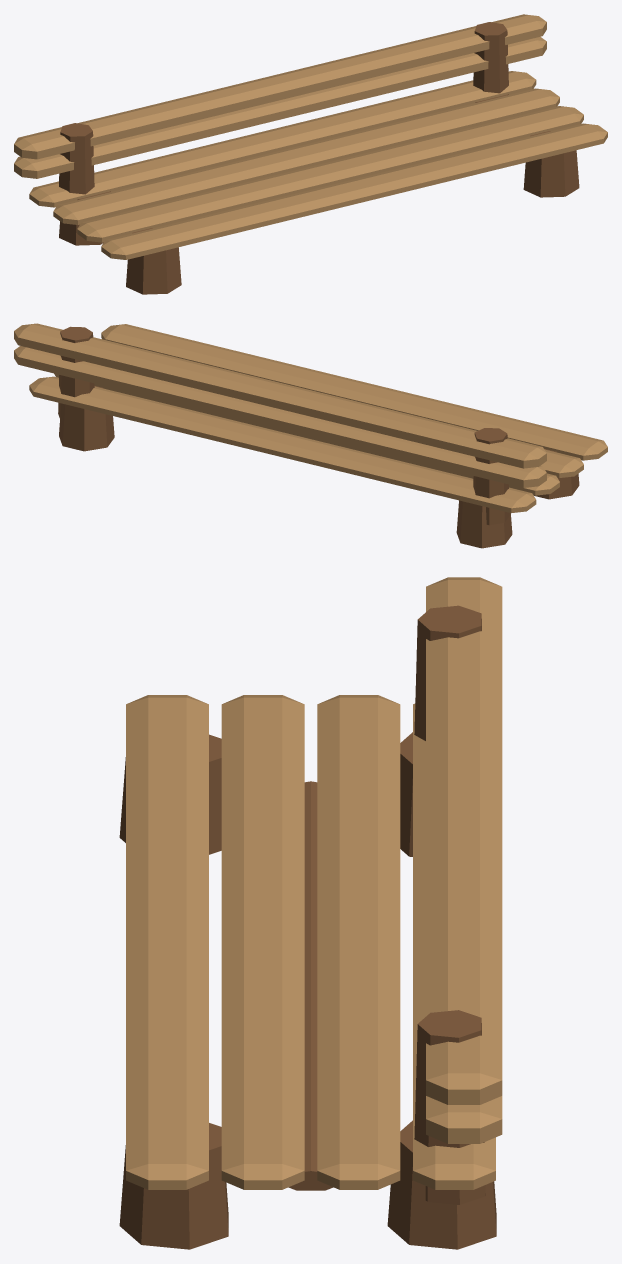
The model's file is CC_RestBench.fbx.
3 renders of one model, top to bottom at view 1: azimuth 30°, elevation 25°; view 2: azimuth 150°, elevation 25°; view 3: azimuth 270°, elevation 25°, orthographic. The views are drawn at different scales.
Visible parts, largest first — view 1: Back slat.003, Plank.036, Plank.038, Plank.037, Plank.039, Back slat.002, Leg.048, Leg.050, Back post.001, Back post, Leg.049; view 2: Back slat.003, Plank.039, Plank.036, Back slat.002, Leg.051, Plank.038, Leg.049, Back post, Back post.001, Plank.037, Leg.048; view 3: Plank.037, Plank.038, Plank.036, Back slat.003, Plank.039, Leg.050, Leg.051, Brace.008, Back post.001, Back slat.002, Back post, Leg.048 (+1 smaller).
Boxes of the visible parts, x1,y1,x2,y2 form: Back slat.003: (14, 14, 546, 159); Plank.036: (101, 123, 607, 259); Plank.038: (53, 88, 559, 224); Plank.037: (77, 106, 583, 242); Plank.039: (29, 71, 536, 207); Back slat.002: (14, 36, 546, 178); Leg.048: (126, 228, 181, 294); Leg.050: (523, 131, 579, 197); Back post.001: (473, 22, 508, 93); Back post: (59, 123, 94, 194); Leg.049: (59, 191, 110, 245); Back slat.003: (14, 323, 546, 468); Plank.039: (29, 376, 536, 513); Plank.036: (101, 324, 607, 460); Back slat.002: (14, 346, 546, 487); Leg.051: (59, 386, 114, 451); Plank.038: (54, 373, 559, 495); Leg.049: (456, 500, 512, 548); Back post: (473, 428, 509, 525); Back post.001: (58, 326, 94, 420); Plank.037: (541, 449, 583, 477); Leg.048: (534, 448, 579, 499); Plank.037: (221, 695, 304, 1189); Plank.038: (317, 695, 400, 1189); Plank.036: (126, 695, 208, 1189); Back slat.003: (426, 577, 502, 1104); Plank.039: (413, 703, 495, 1189); Leg.050: (119, 1123, 228, 1249); Leg.051: (387, 1120, 496, 1249); Brace.008: (288, 781, 333, 1190); Back post.001: (414, 1010, 485, 1204); Back slat.002: (426, 1096, 502, 1143); Back post: (414, 605, 481, 740); Leg.048: (119, 734, 221, 854).
Bounding box in the file's own units: 4.56 × 0.8723 × 1.44.
